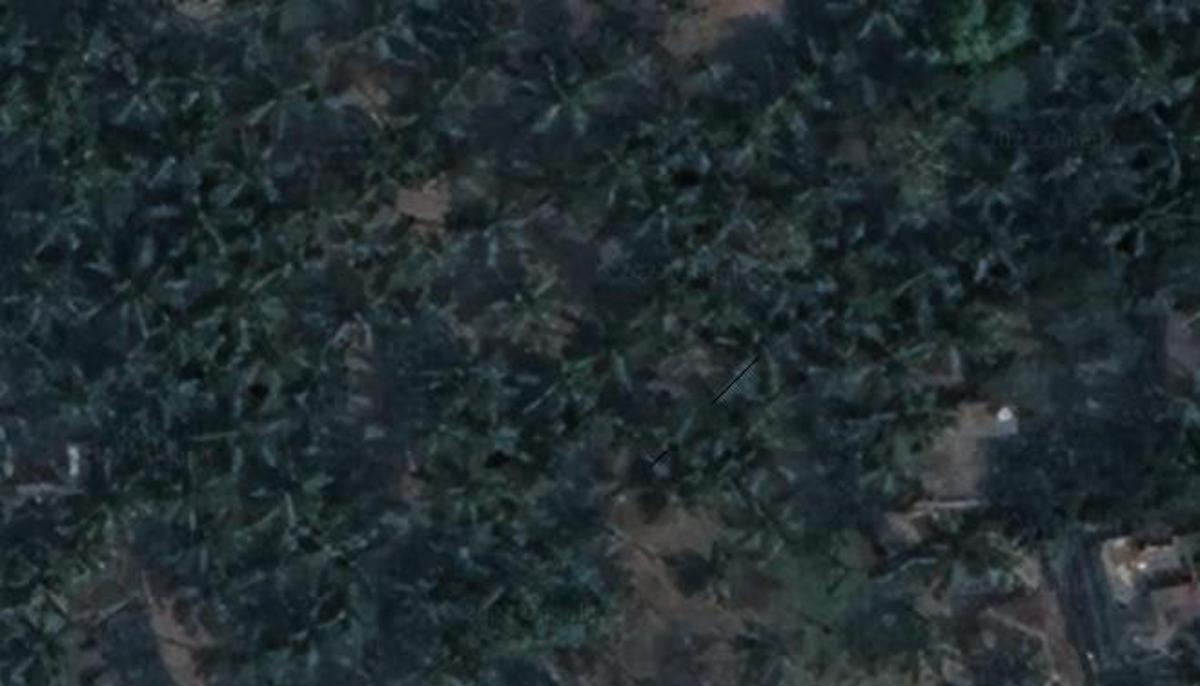coconut: (447, 167, 544, 274), (537, 50, 639, 147), (193, 263, 296, 347), (94, 242, 191, 325), (185, 320, 274, 409), (863, 20, 952, 109), (356, 218, 447, 305), (10, 258, 100, 342), (537, 478, 630, 558), (236, 60, 335, 134), (107, 52, 207, 123), (1094, 180, 1187, 256), (404, 69, 491, 149), (222, 192, 304, 276), (85, 312, 167, 396), (203, 398, 287, 476), (914, 514, 996, 593), (147, 123, 236, 194), (174, 38, 254, 116), (409, 125, 491, 201), (214, 134, 296, 209), (203, 611, 285, 686), (162, 187, 240, 263), (1121, 96, 1200, 171), (852, 322, 932, 393), (274, 383, 351, 456), (355, 0, 433, 72), (890, 107, 966, 180), (637, 409, 719, 476), (961, 207, 1032, 283), (453, 5, 533, 72), (16, 189, 94, 256), (284, 593, 356, 665), (489, 265, 564, 334), (74, 454, 152, 520), (733, 365, 804, 436), (320, 274, 389, 347), (954, 138, 1027, 207), (579, 307, 651, 376), (901, 240, 972, 309), (786, 156, 861, 221), (633, 451, 708, 516), (251, 454, 320, 524), (884, 618, 955, 686), (475, 540, 544, 609), (664, 305, 732, 374), (234, 538, 304, 605), (40, 74, 107, 143), (721, 307, 790, 374), (442, 458, 511, 524), (154, 456, 218, 527), (823, 280, 895, 343), (172, 564, 244, 627), (595, 138, 662, 205), (165, 507, 233, 573), (693, 174, 761, 240), (659, 109, 724, 178), (50, 16, 127, 74), (61, 509, 122, 582), (753, 60, 821, 125), (5, 616, 74, 680), (287, 334, 358, 396), (737, 496, 808, 558), (733, 434, 799, 500), (684, 544, 752, 607), (741, 627, 813, 686), (300, 520, 366, 584), (799, 32, 864, 96), (857, 442, 923, 505), (1036, 38, 1110, 94), (1110, 47, 1179, 107), (631, 180, 697, 242), (398, 558, 457, 627), (54, 369, 116, 434), (732, 112, 795, 174), (9, 547, 74, 607), (353, 123, 406, 196), (531, 343, 593, 405), (972, 531, 1034, 591), (424, 338, 482, 402), (376, 487, 440, 545), (668, 220, 728, 278), (406, 396, 467, 453), (398, 642, 473, 686), (7, 496, 67, 547), (49, 140, 100, 196), (813, 207, 870, 254)
